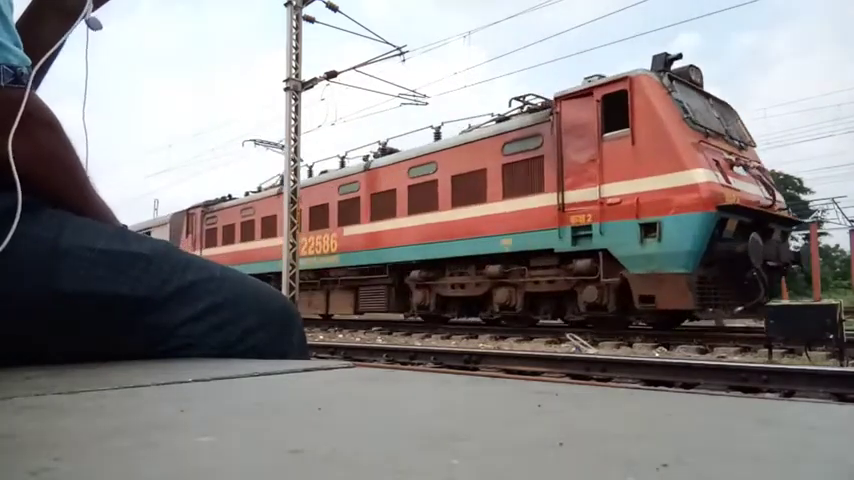Boogie: (296, 234, 356, 264)
